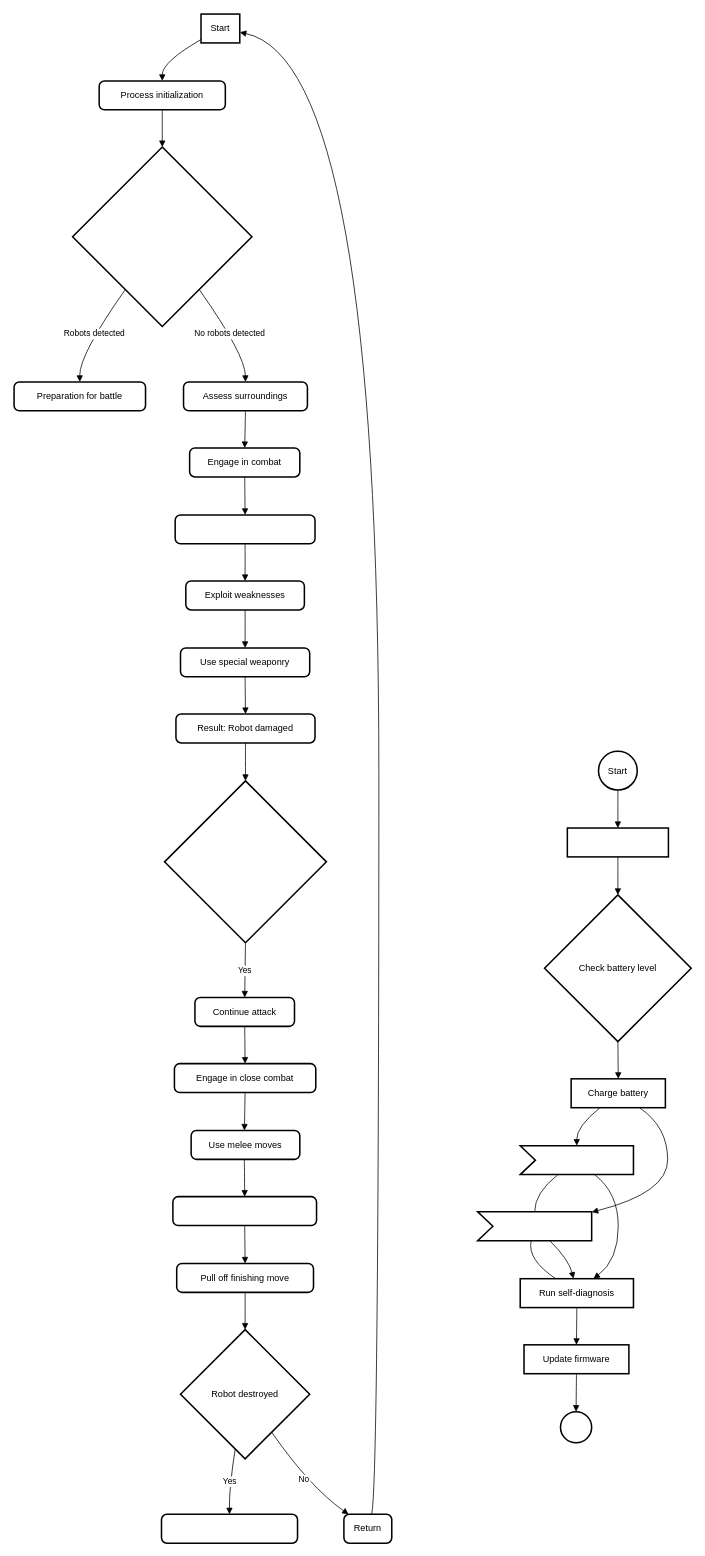
The diagram is 705 pixels wide and 1556 high, and some of its shapes have lost their labels. The centre of each missing label's shape, as x and y in pixels:
"Connect to WiFi" goes at point (617, 842).
"Detection of giant robots" goes at point (161, 236).
"End" goes at point (575, 1427).
"if Battery full" goes at point (576, 1160).
"if Battery low" goes at point (534, 1226).
"Proceed to next target" goes at point (229, 1528).
"Result: Robot weakened" goes at point (244, 1210).
"Robot still operational" goes at point (245, 861).
"Scan robot weaknesses" goes at point (244, 529).
